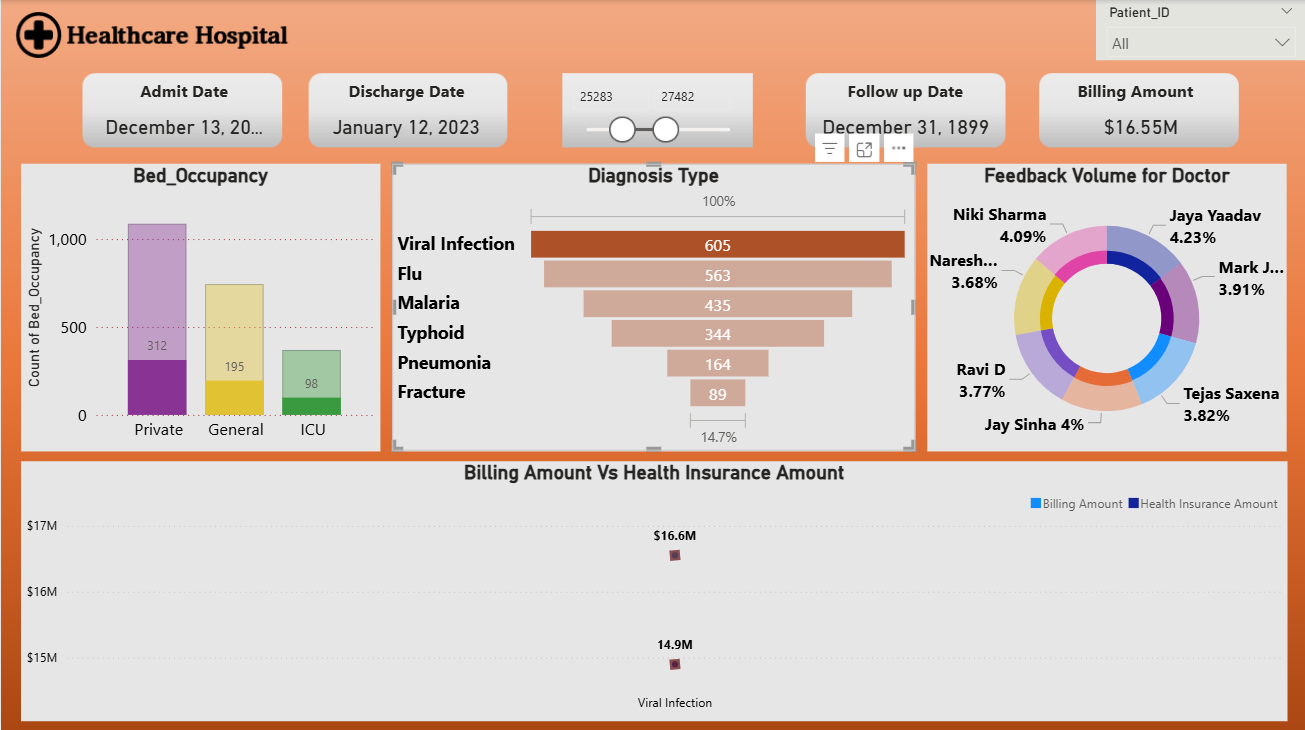

The page's visual inventory and layout, read from the dashboard file:
{"tool":"powerbi","page":{"name":"Page 1","canvas":[1280,720],"ordinal":0},"visuals":[{"type":"slicer","fields":{"Values":["Sheet1.Patient_ID"]},"box":[1074.4,0,205.8,59],"z":0},{"type":"card","fields":{"Values":["Min(Sheet1.Admit_Date)"]},"box":[93.3,108.4,172.9,34.3],"z":1000},{"type":"textbox","box":[93.3,72.7,172.9,39.8],"z":2000},{"type":"textbox","box":[311.5,72.7,172.9,39.8],"z":3000},{"type":"card","fields":{"Values":["Min(Sheet1.Discharge_Date)"]},"box":[311.5,108.4,172.9,34.3],"z":4000},{"type":"textbox","box":[801.4,72.7,172.9,39.8],"z":5000},{"type":"textbox","box":[1026.4,72.7,172.9,39.8],"z":6000},{"type":"card","fields":{"Values":["Min(Sheet1.Followup Date)"]},"box":[795.9,108.4,183.9,34.3],"z":7000},{"type":"card","fields":{"Values":["Sum(Sheet1.Billing Amount)"]},"box":[1026.4,108.4,183.9,34.3],"z":8000},{"type":"slicer","fields":{"Values":["Sheet1.Patient_ID"]},"box":[548.9,71.4,188,75.5],"z":9000},{"type":"columnChart","title":"Bed_Occupancy","fields":{"Category":["Sheet1.Bed_Occupancy"],"Y":["CountNonNull(Sheet1.Bed_Occupancy)"]},"box":[19.2,160.5,352.7,282.7],"z":10000},{"type":"donutChart","title":"Feedback Volume for Doctor","fields":{"Category":["Sheet1.Doctor"],"Y":["CountNonNull(Sheet1.Doctor)"]},"box":[909.8,160.5,352.7,282.7],"z":11000},{"type":"funnel","title":"Diagnosis Type","fields":{"Category":["Sheet1.Diagnosis"],"Y":["CountNonNull(Sheet1.Diagnosis)"]},"box":[384.2,160.5,513.2,282.7],"z":12000},{"type":"lineChart","title":"Billing Amount Vs Health Insurance Amount","fields":{"Y":["Sum(Sheet1.Billing Amount)","Sum(Sheet1.Health Insurance Amount)"],"Category":["Sheet1.Diagnosis"]},"box":[19.2,452.8,1243.2,255.2],"z":13000}]}

Visuals, with their boxes in screenshot pixels (x1, y1, x2, y2), scaled from the page's 1280x720 canvas onto the 1305x730 screenshot:
slicer - Sheet1.Patient_ID: <bbox>1095, 0, 1304, 60</bbox>
card - Min(Sheet1.Admit_Date): <bbox>95, 110, 271, 145</bbox>
textbox: <bbox>95, 74, 271, 114</bbox>
textbox: <bbox>318, 74, 494, 114</bbox>
card - Min(Sheet1.Discharge_Date): <bbox>318, 110, 494, 145</bbox>
textbox: <bbox>817, 74, 993, 114</bbox>
textbox: <bbox>1046, 74, 1223, 114</bbox>
card - Min(Sheet1.Followup Date): <bbox>811, 110, 999, 145</bbox>
card - Sum(Sheet1.Billing Amount): <bbox>1046, 110, 1234, 145</bbox>
slicer - Sheet1.Patient_ID: <bbox>560, 72, 751, 149</bbox>
"Bed_Occupancy" columnChart: <bbox>20, 163, 379, 449</bbox>
"Feedback Volume for Doctor" donutChart: <bbox>928, 163, 1287, 449</bbox>
"Diagnosis Type" funnel: <bbox>392, 163, 915, 449</bbox>
"Billing Amount Vs Health Insurance Amount" lineChart: <bbox>20, 459, 1287, 718</bbox>
